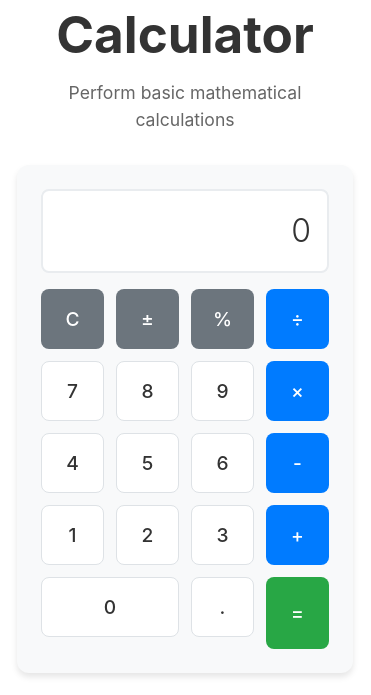
it: Calculator › inputs multiple digit numbers
What coordinates should you click on to do the following:
click the button "1"
I would click on:
 (72, 535)
Its box is [41,505,104,565].
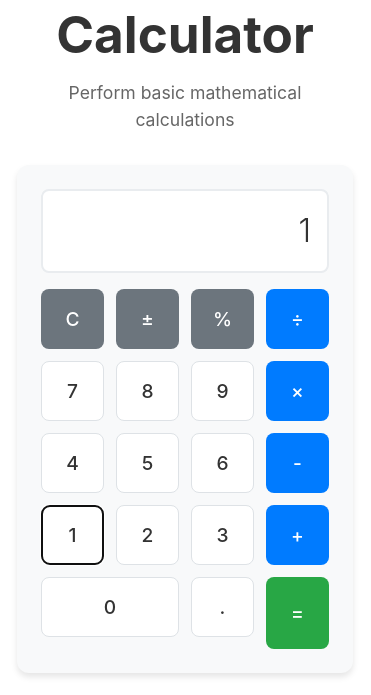
What coordinates should you click on to do the following:
click the button "2"
I would click on:
 (148, 535)
Its box is [116,505,179,565].
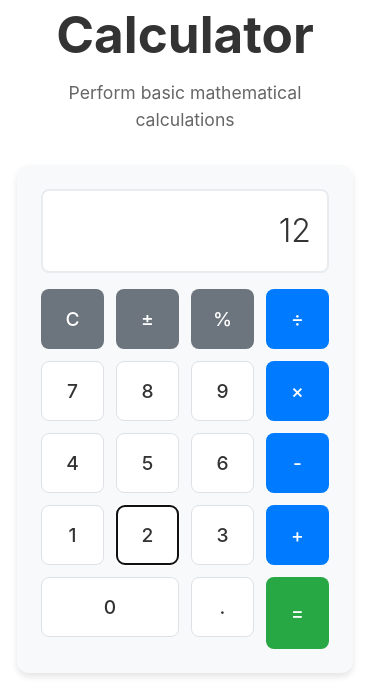
What coordinates should you click on to do the following:
click the button "3"
I would click on:
 (222, 535)
Its box is [191,505,254,565].
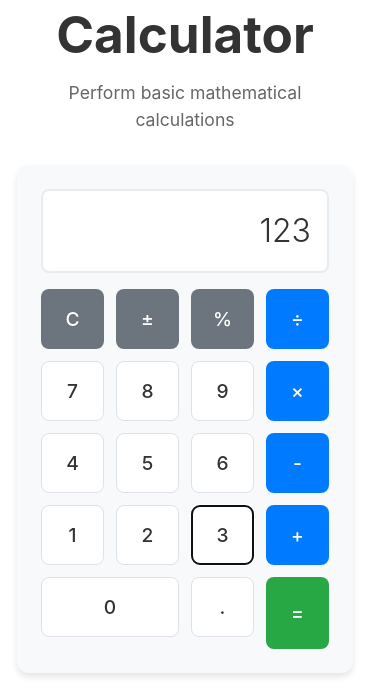
Result: the text "123" is shown at [259,207,311,255]
